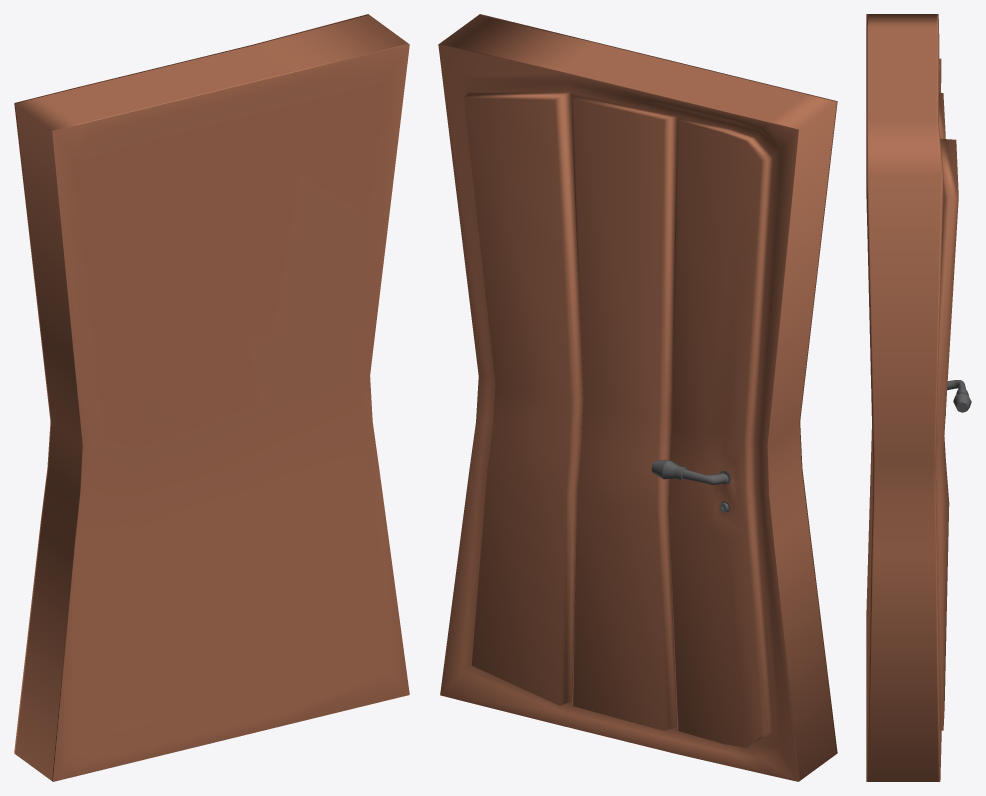
Rendered from Door_LowPoly.fbx.
3 renders of one model, left to right at view 1: azimuth 30°, elevation 25°; view 2: azimuth 150°, elevation 25°; view 3: azimuth 270°, elevation 25°, orthographic. The views are drawn at different scales.
Parts seen in each view (by area): view 1: Door_LowPoly; view 2: Door_LowPoly; view 3: Door_LowPoly.
Part boxes in pixels (box(x1,y1,x2,y2)): Door_LowPoly: box(14, 14, 409, 781); Door_LowPoly: box(438, 14, 837, 781); Door_LowPoly: box(866, 14, 971, 781).
Bounding box in the file's own units: 241 × 420 × 66.32.
